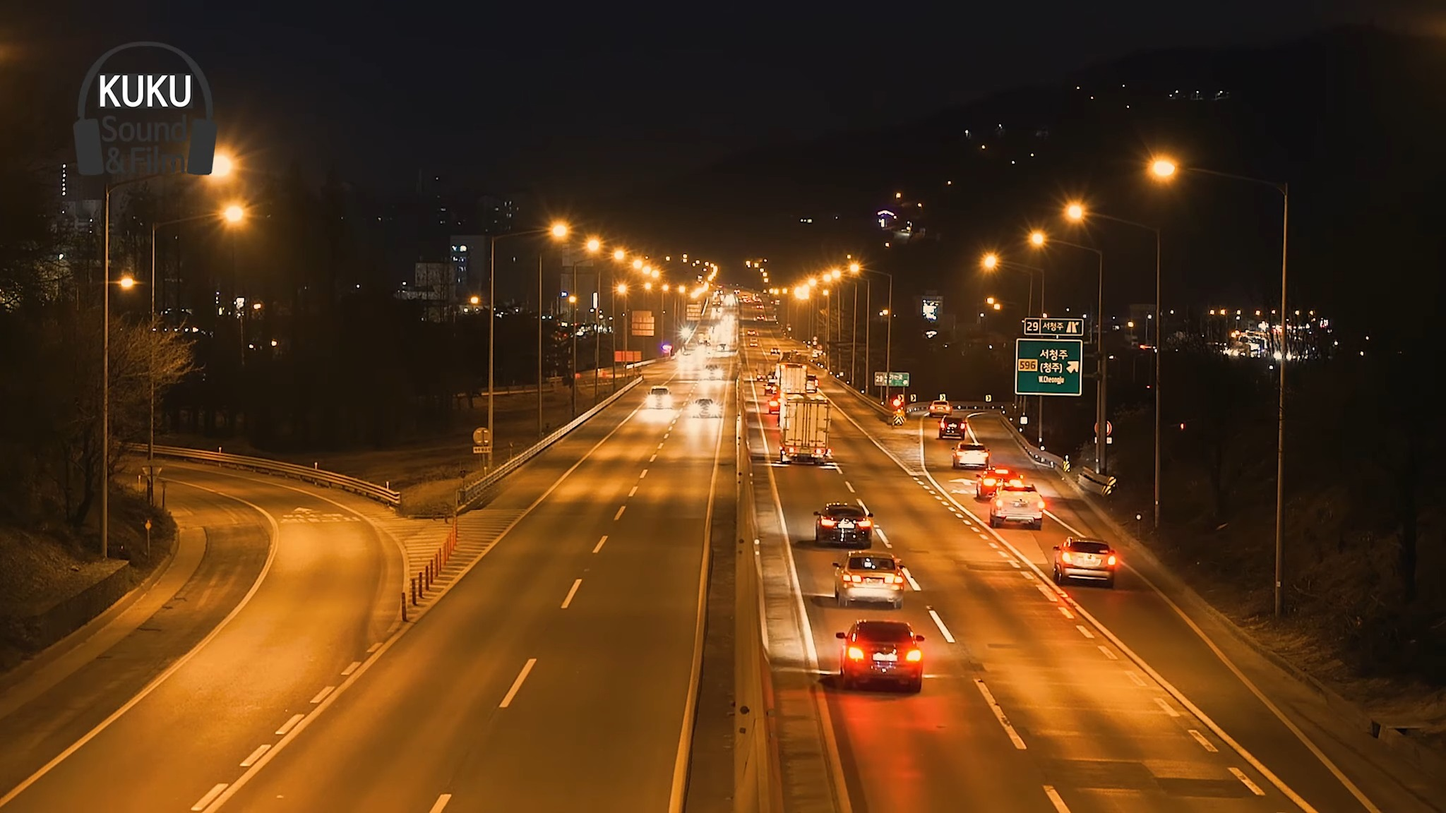car: (837, 618, 928, 689), (837, 547, 912, 615), (1052, 535, 1124, 588), (811, 500, 877, 552), (987, 475, 1044, 529)
